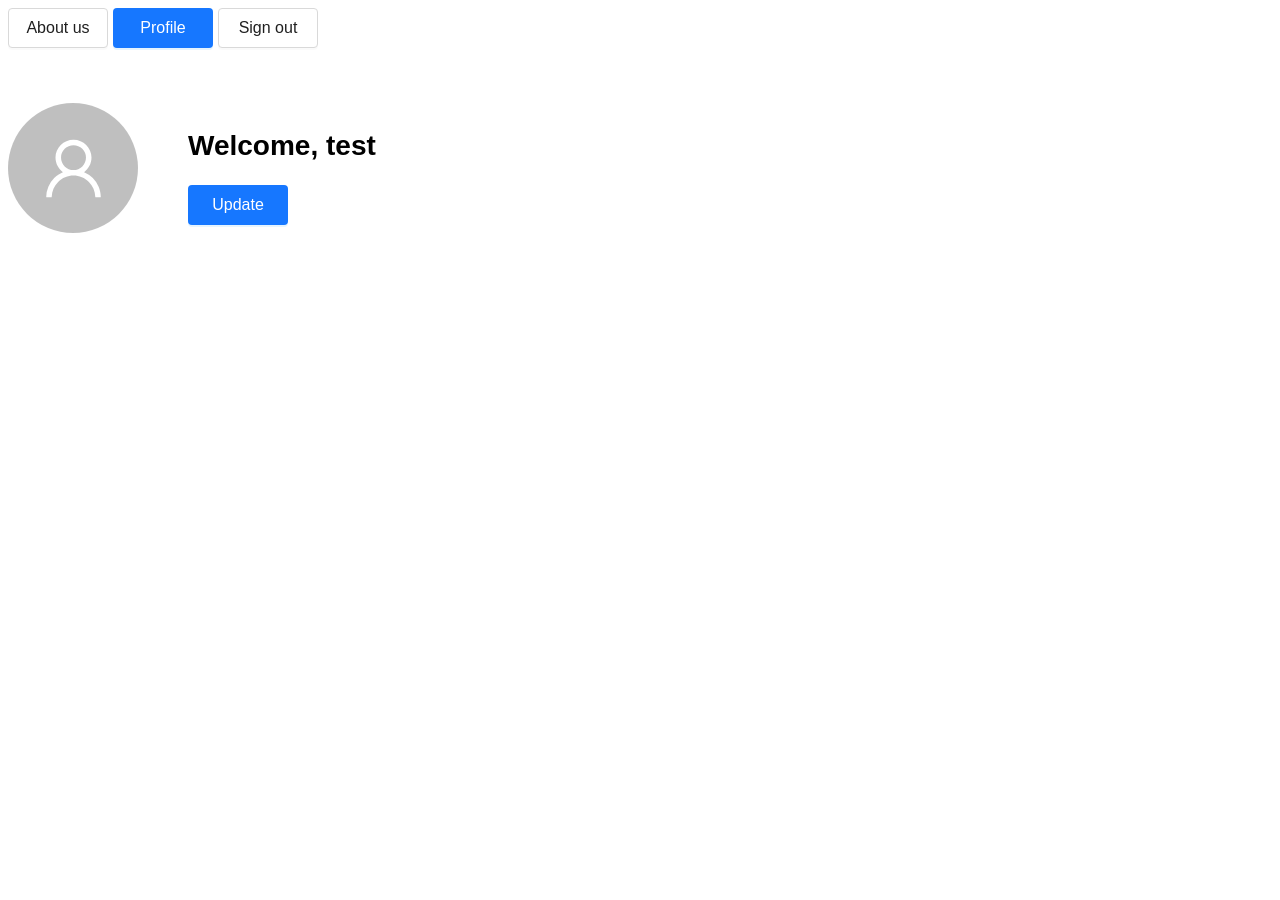
Test: renders Profile component
The image size is (1280, 900).
Check: the button "About us" is shown, box [8,8,108,48]
Check: the button "Profile" is shown, box [113,8,213,48]
Click the button "Update" at (238, 205), box [188,185,288,225]
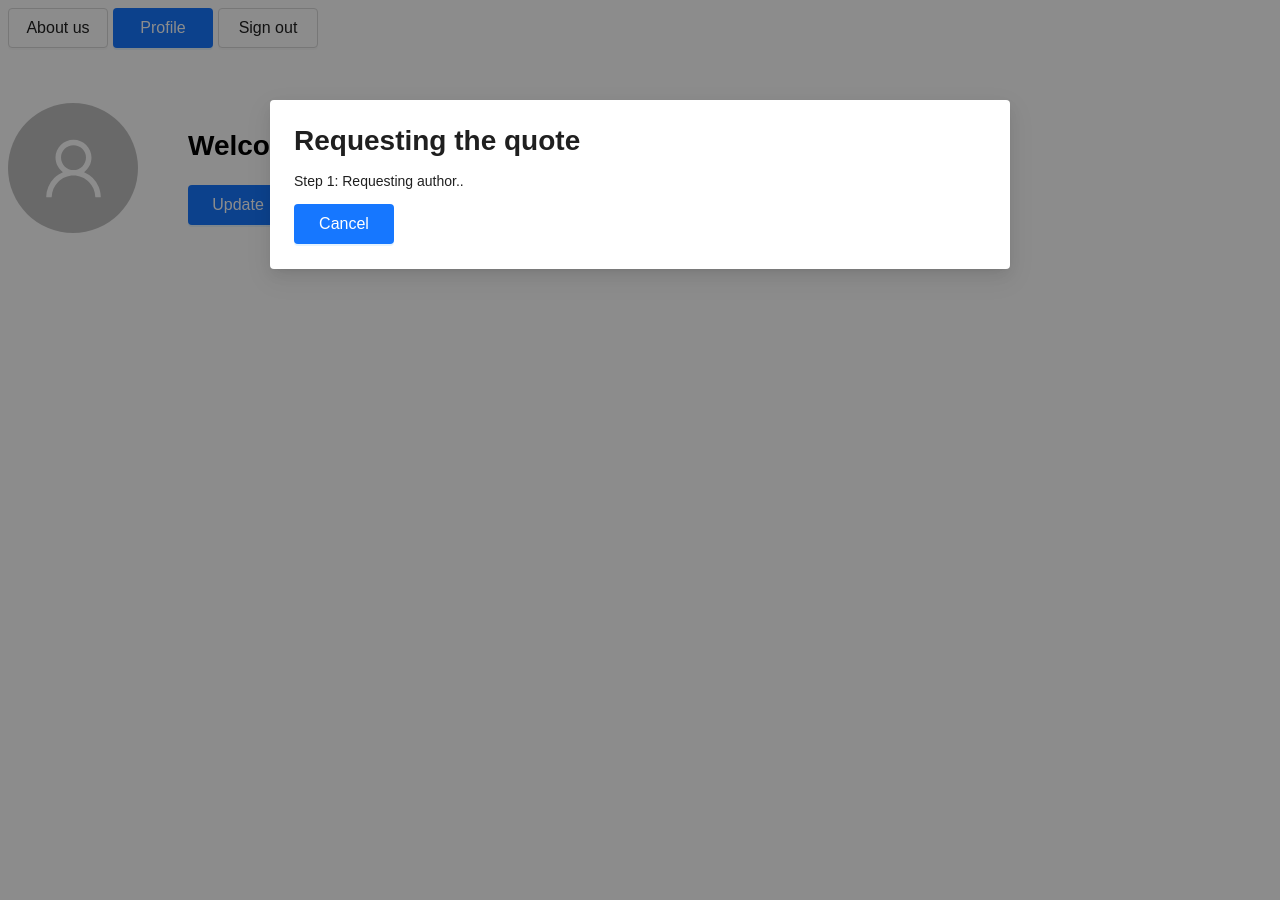
Check: the text "Requesting the quote" is shown, box [294,125,580,156]
